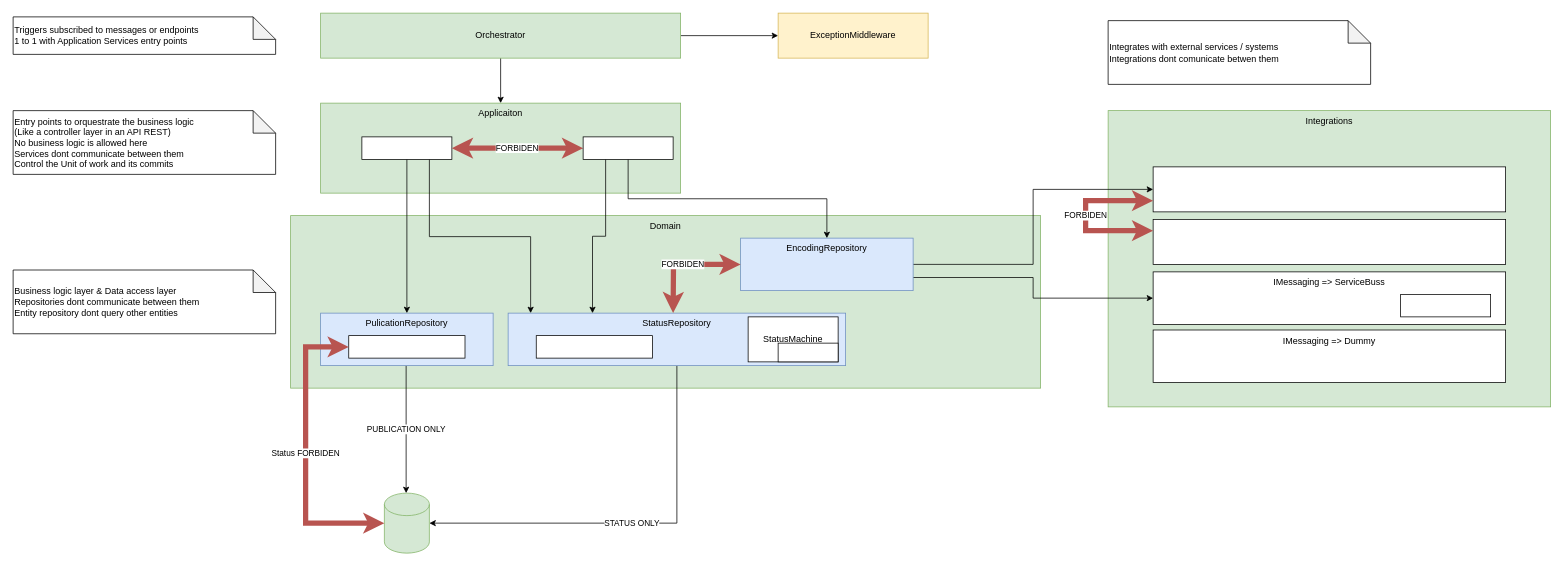
This 1564x566 diagram has some shape labels left out. The centre of each missing label's shape, as x and y in pixels:
"Encoding" belongs at [1329,189].
"EncodingService" belongs at [627,147].
"EntityRepository<Plubication>" belongs at [406,346].
"EntityRepository<Status>" belongs at [594,346].
"NugetAzure" belongs at [1445,305].
"NugetState" belongs at [807,352].
"PublicationService" belongs at [406,147].
"Rendering" belongs at [1329,241].
